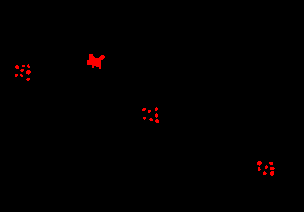Target: (87, 54, 105, 69), (26, 70, 31, 75), (257, 161, 262, 166), (270, 171, 274, 176), (15, 65, 19, 69), (155, 119, 159, 123), (263, 171, 267, 175), (155, 113, 158, 118), (270, 167, 275, 170), (27, 64, 30, 68), (20, 69, 24, 72), (26, 78, 30, 81), (155, 107, 158, 111), (142, 108, 146, 111), (149, 118, 153, 121), (269, 162, 273, 165), (265, 165, 268, 169), (258, 167, 261, 171), (15, 74, 18, 77), (20, 74, 23, 77), (148, 110, 151, 113), (143, 117, 146, 120), (22, 65, 25, 67)
